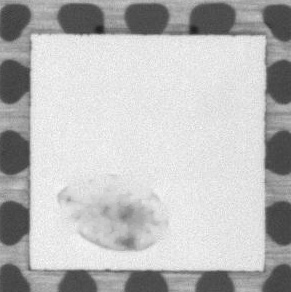DIE_INK: (56, 173, 168, 251)
